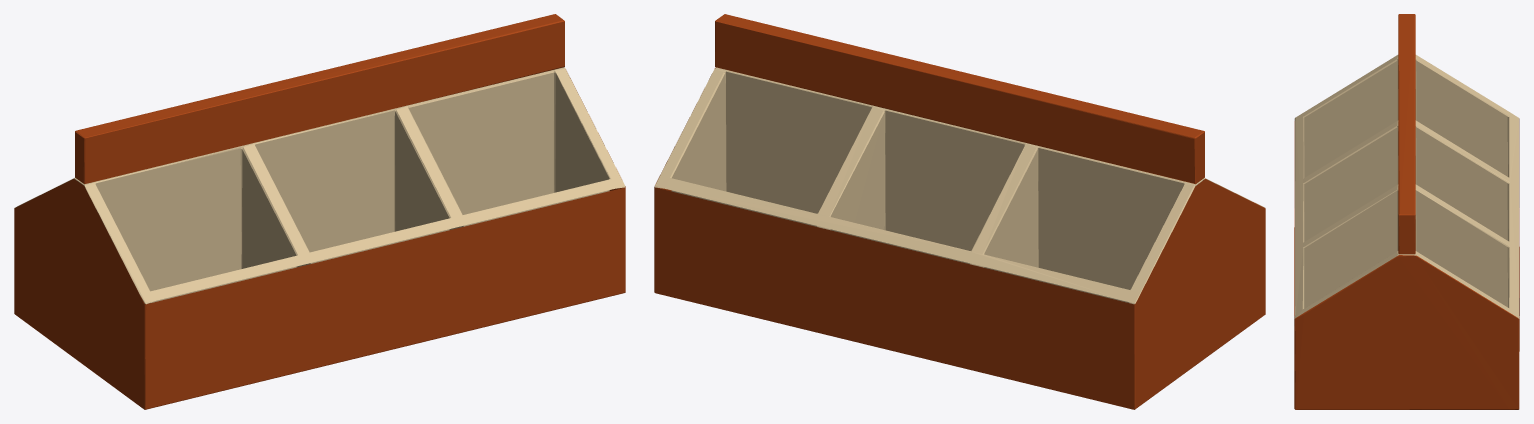
Rendered from ss-produce.lod1.glb.
The picture shows the model from 3 angles, left to right: view 1: azimuth 30°, elevation 25°; view 2: azimuth 150°, elevation 25°; view 3: azimuth 270°, elevation 25°; orthographic projection. The views are drawn at different scales.
Visible parts, largest first — view 1: Object_111; view 2: Object_111; view 3: Object_111.
Part boxes in pixels (box(x1,y1,x2,y2)): Object_111: box(14, 14, 625, 409); Object_111: box(654, 14, 1265, 409); Object_111: box(1294, 14, 1519, 409).
Size of the model in its own units: 2.41 by 1.09 by 1.14.
